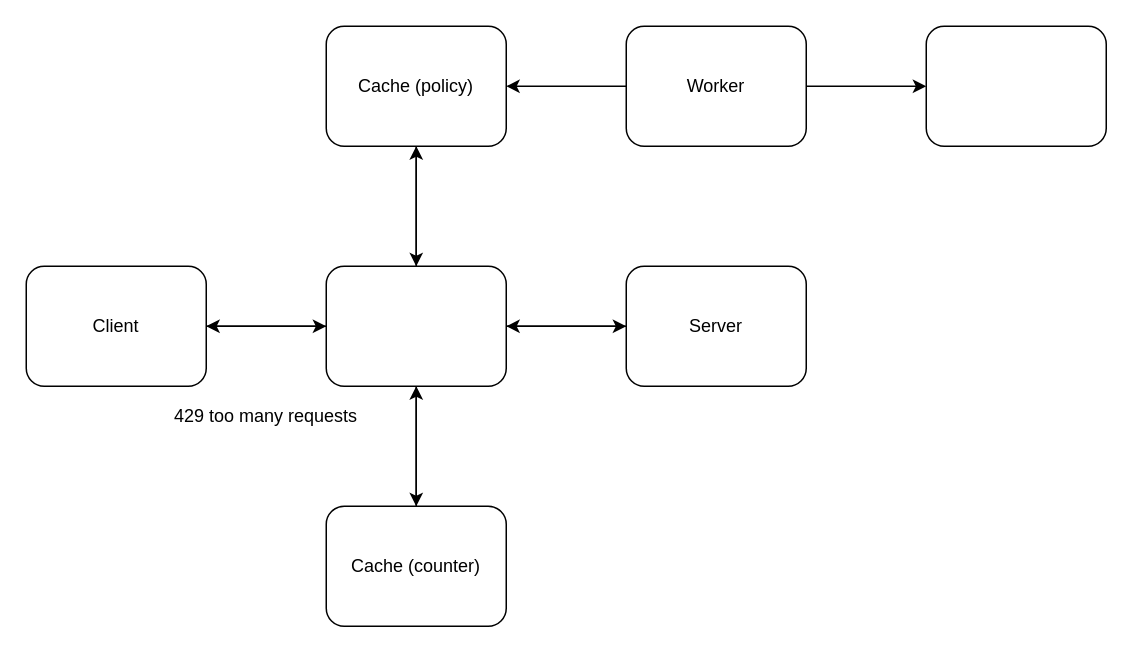
Some shapes in this 1133 by 653 pixel diagram are drawn without their labels. The shapes that lost their labels are listed below. From the top down, each one's centre as x and y in pixels, then its label:
At point 1015,85: "DB (policy)".
At point 415,325: "API Gateway".
